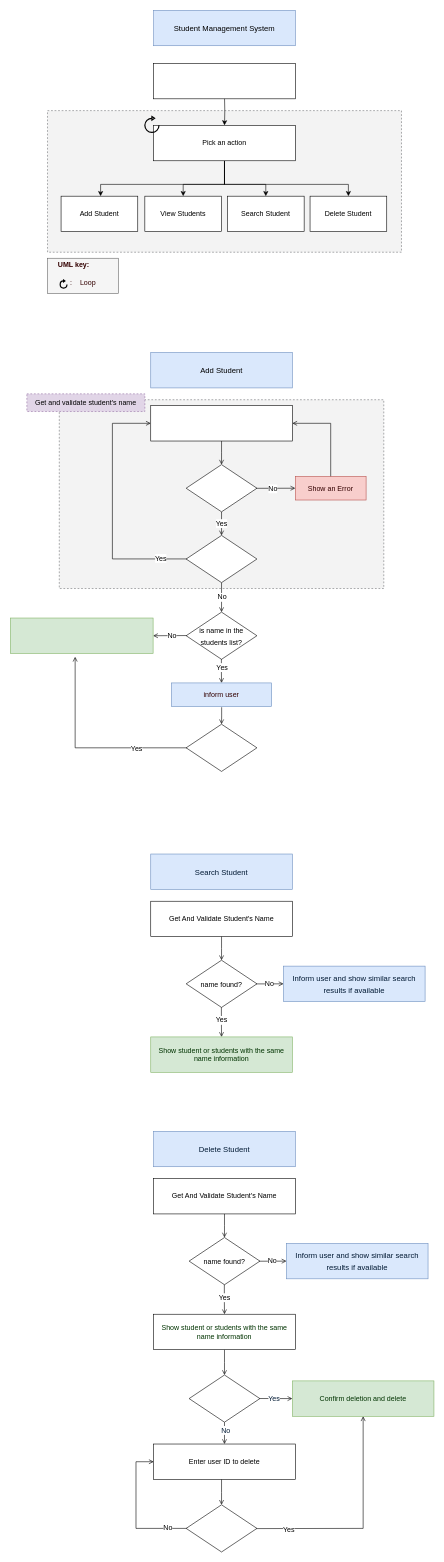
The diagram is 444 pixels wide and 1562 high, and some of its shapes have lost their labels. The shapes that lost their labels are listed below. From the top down, each one's centre as x and y in pixels, then its label:
At pixel 224 81: "Start".
At pixel 221 423: "Get Student's First and Last Name".
At pixel 221 488: "are both names valid?".
At pixel 221 559: "Edit inputs?".
At pixel 81 635: "save student's details with new student id".
At pixel 221 747: "Add user anyway?".
At pixel 224 1398: "one name found?".
At pixel 221 1528: "is ID valid?".
